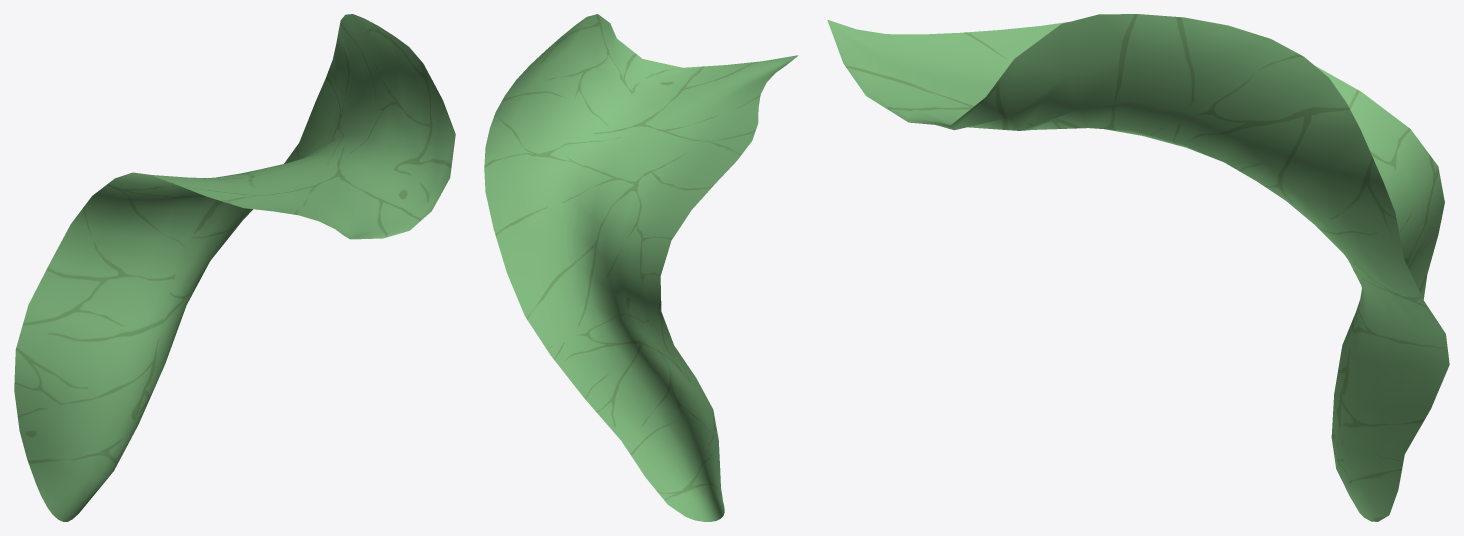
File: Mesh_Home_RF_Leaf_05_SM.fbx
3 views of the same model, side by side, from view 1: azimuth 30°, elevation 25°; view 2: azimuth 150°, elevation 25°; view 3: azimuth 270°, elevation 25° (orthographic). The views are drawn at different scales.
Parts seen in each view (by area): view 1: Mesh_Home_RF_Leaf_05; view 2: Mesh_Home_RF_Leaf_05; view 3: Mesh_Home_RF_Leaf_05.
Part boxes in pixels (<box>): Mesh_Home_RF_Leaf_05: <box>14,14,455,521</box>; Mesh_Home_RF_Leaf_05: <box>484,14,798,521</box>; Mesh_Home_RF_Leaf_05: <box>827,14,1449,521</box>.
Bounding box in the file's own units: 1295 × 1992 × 1693.
1 material, 1 textured.
